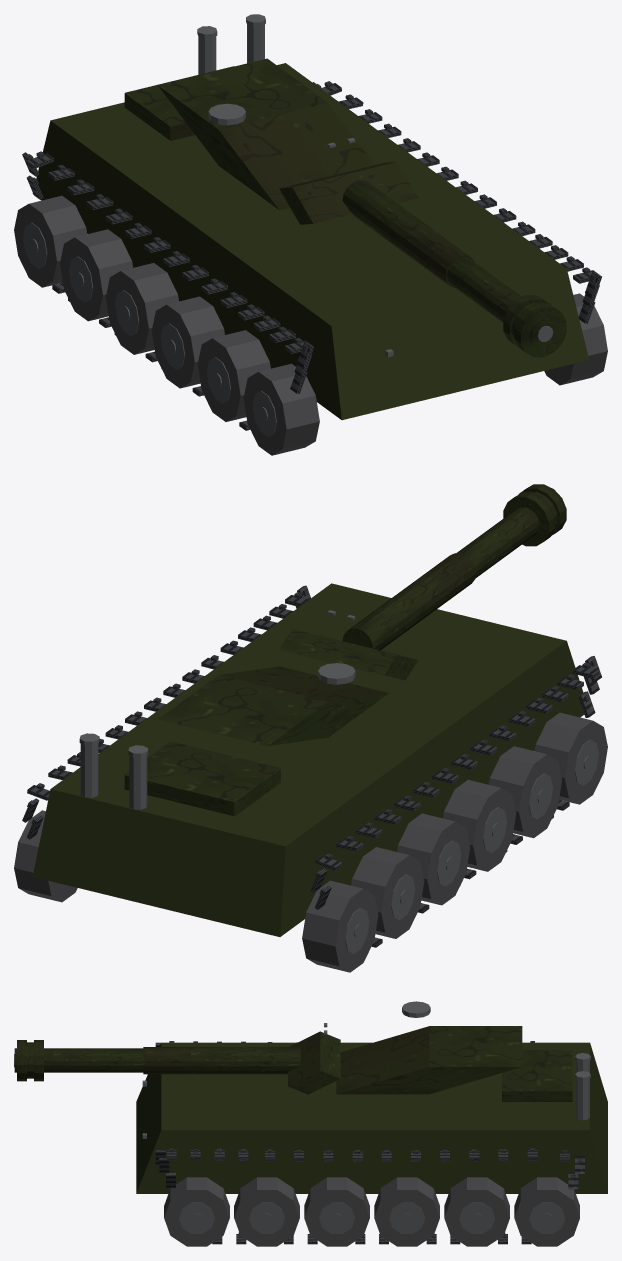
File: maul_LOD1.glb
3 views of the same model, one above another, from view 1: azimuth 30°, elevation 25°; view 2: azimuth 150°, elevation 25°; view 3: azimuth 270°, elevation 25° (orthographic). The views are drawn at different scales.
Visible parts, largest first — view 1: HullMesh, Wheels_L, CasemateMesh, TrackL, Gun_tube1, TrackR, Gun_tube2, Wheels_R, Gun_brk1, exh-1, Gun_brk2, exh1; view 2: HullMesh, Wheels_L, CasemateMesh, TrackL, Gun_tube1, TrackR, Gun_tube2, Wheels_R, Gun_brk2, exh-1, exh1, Gun_brk1; view 3: HullMesh, Wheels_R, CasemateMesh, Gun_tube1, TrackR, Gun_tube2, exh1, Gun_brk1, Gun_brk2.
Part boxes in pixels (x1,y1,x2,y2): HullMesh: [32, 63, 589, 420]; Wheels_L: [14, 195, 319, 455]; CasemateMesh: [158, 58, 418, 224]; TrackL: [22, 151, 313, 430]; Gun_tube1: [342, 180, 474, 288]; TrackR: [313, 81, 601, 323]; Gun_tube2: [447, 257, 558, 348]; Wheels_R: [544, 293, 607, 385]; Gun_brk1: [514, 303, 566, 357]; exh-1: [198, 36, 216, 74]; Gun_brk2: [503, 295, 550, 346]; exh1: [247, 24, 264, 63]; HullMesh: [32, 583, 584, 936]; Wheels_L: [302, 712, 607, 972]; CasemateMesh: [158, 610, 418, 745]; TrackL: [310, 656, 601, 947]; Gun_tube1: [342, 553, 476, 650]; TrackR: [22, 585, 310, 839]; Gun_tube2: [456, 507, 539, 578]; Wheels_R: [14, 810, 77, 902]; Gun_brk2: [503, 492, 555, 546]; exh-1: [129, 755, 147, 809]; exh1: [80, 744, 98, 797]; Gun_brk1: [518, 484, 566, 535]; HullMesh: [136, 1042, 607, 1193]; Wheels_R: [164, 1177, 579, 1246]; CasemateMesh: [288, 1001, 522, 1094]; Gun_tube1: [143, 1047, 300, 1074]; TrackR: [155, 1148, 584, 1244]; Gun_tube2: [14, 1048, 143, 1072]; exh1: [576, 1079, 589, 1120]; Gun_brk1: [17, 1040, 26, 1081]; Gun_brk2: [34, 1040, 43, 1081].
Bounding box in the file's own units: 4 × 2.46 × 8.31.
Materials: 5 (3 with a texture image).
